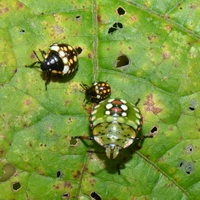insect: (78, 106, 199, 199), (89, 98, 142, 158), (26, 43, 81, 89), (80, 81, 110, 103)
